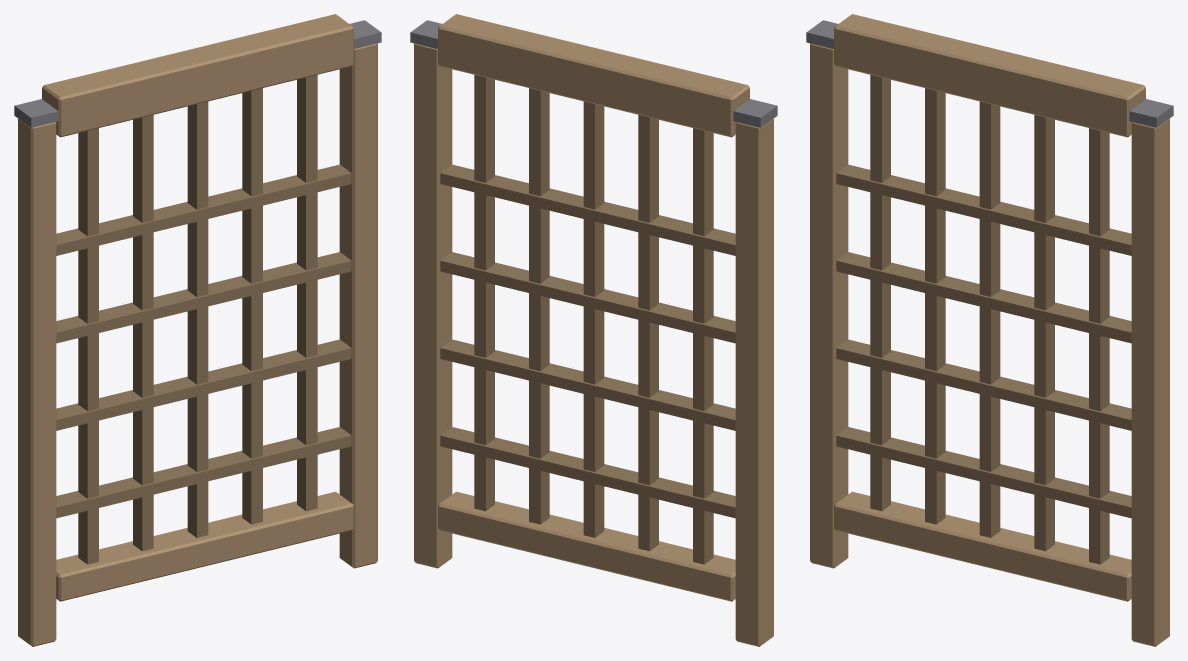
File: prop-trellis-wood.fbx
3 views of the same model, side by side, from view 1: azimuth 30°, elevation 25°; view 2: azimuth 150°, elevation 25°; view 3: azimuth 330°, elevation 25° (orthographic).
Visible parts, largest first — view 1: prop-trellis-wood; view 2: prop-trellis-wood; view 3: prop-trellis-wood.
Boxes of the visible parts, x1,y1,x2,y2 form: prop-trellis-wood: (14, 14, 381, 646); prop-trellis-wood: (410, 14, 777, 646); prop-trellis-wood: (806, 14, 1173, 646).
Bounding box in the file's own units: 1.09 × 1.62 × 0.1.
